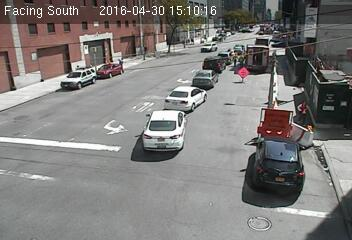neg: (136, 159, 167, 201), (39, 117, 67, 154), (167, 112, 186, 137), (197, 85, 212, 106), (175, 44, 188, 62), (130, 81, 140, 95), (204, 44, 212, 55)
pos: (290, 97, 312, 125), (235, 51, 248, 68), (114, 54, 127, 71), (228, 51, 239, 66)
